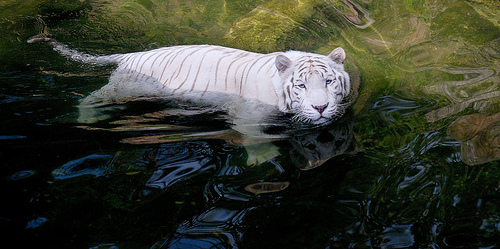Tigre: (97, 32, 351, 139)
